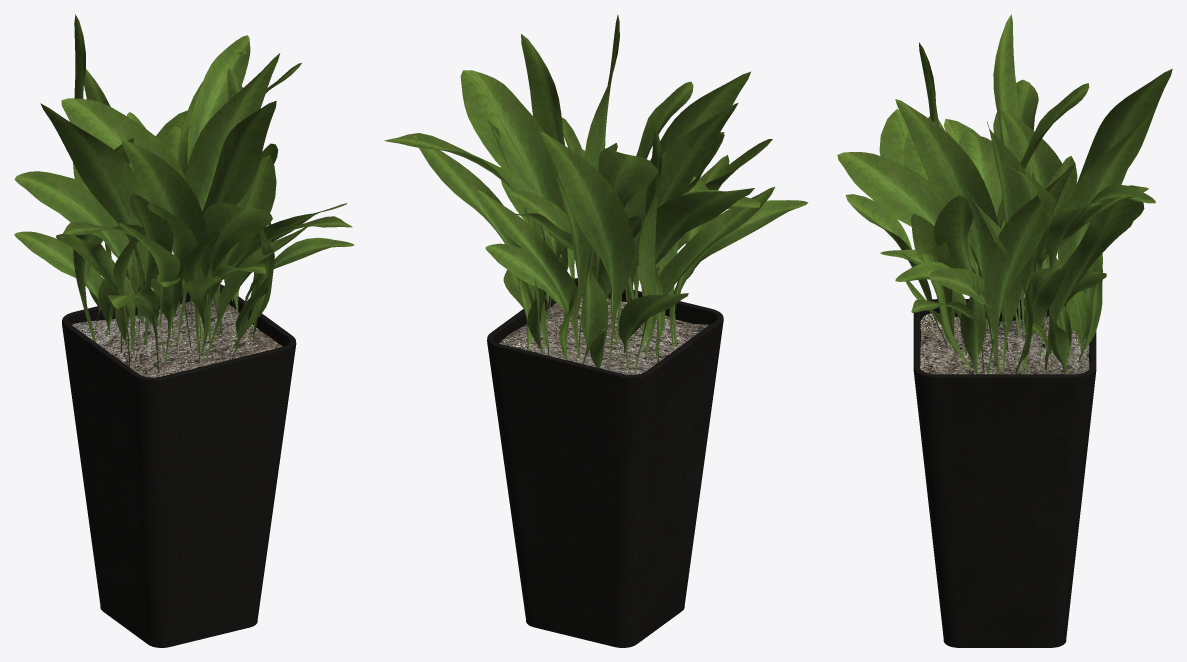
The model's file is tree_s1.glb.
3 renders of one model, left to right at view 1: azimuth 30°, elevation 25°; view 2: azimuth 150°, elevation 25°; view 3: azimuth 270°, elevation 25°, orthographic.
Parts seen in each view (by area): view 1: Mesh1_M_06___Default_0, Mesh3_grt_0, Mesh2_TEXTURE1_0; view 2: Mesh3_grt_0, Mesh1_M_06___Default_0, Mesh2_TEXTURE1_0; view 3: Mesh3_grt_0, Mesh1_M_06___Default_0, Mesh2_TEXTURE1_0.
Part boxes in pixels (bbox=[...]): Mesh1_M_06___Default_0: bbox=[62, 284, 296, 647]; Mesh3_grt_0: bbox=[14, 14, 354, 372]; Mesh2_TEXTURE1_0: bbox=[72, 298, 293, 377]; Mesh3_grt_0: bbox=[384, 14, 808, 374]; Mesh1_M_06___Default_0: bbox=[487, 278, 723, 647]; Mesh2_TEXTURE1_0: bbox=[499, 296, 708, 374]; Mesh3_grt_0: bbox=[837, 14, 1172, 374]; Mesh1_M_06___Default_0: bbox=[913, 299, 1096, 647]; Mesh2_TEXTURE1_0: bbox=[919, 313, 1089, 386].
Bounding box in the file's own units: 6.72 × 11.69 × 6.51.
Materials: 3 (3 with a texture image).
